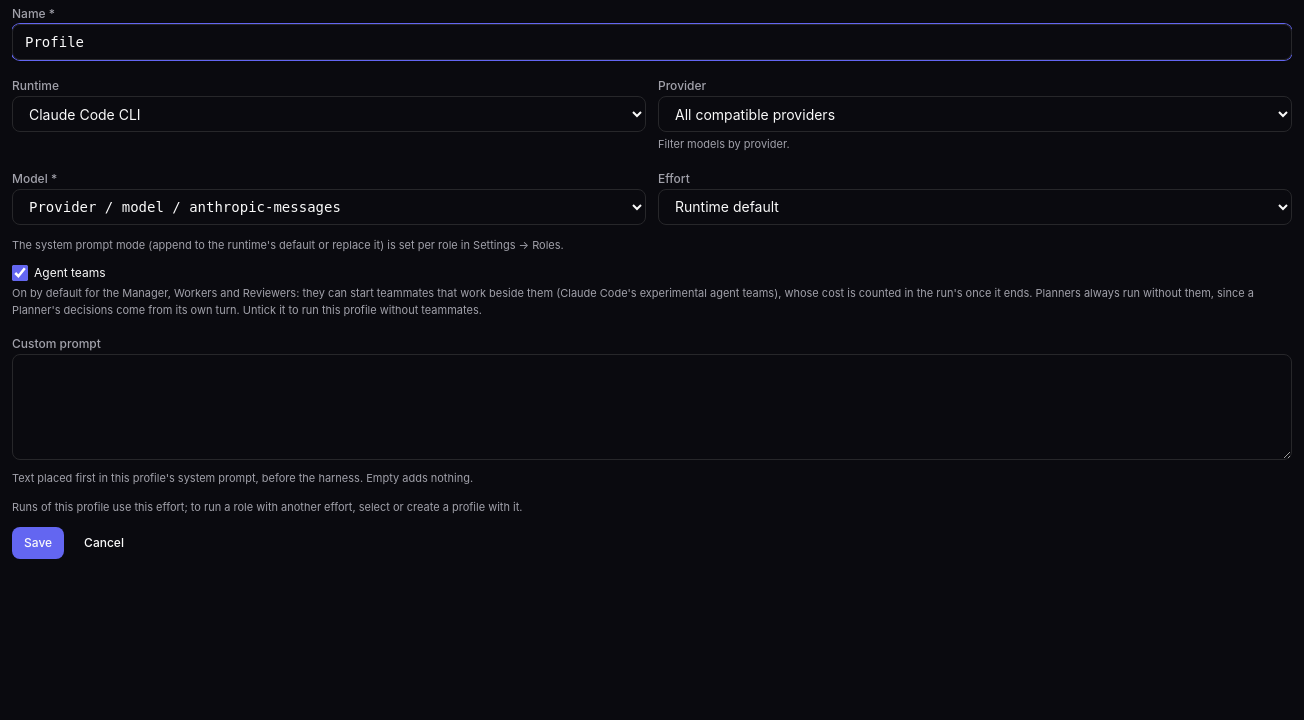
Test: Agent Profiles › hides agent teams for the API runtime
The image size is (1304, 720).
Check: the checkbox labelled "Agent teams" is shown, box 12,265 -> 28,281
Check: the label "Runtime" is shown, box 12,78 -> 59,93
Select "Model API (SDK)" in the dropdown labelled "Runtime": (329, 114) 12,96 -> 646,132
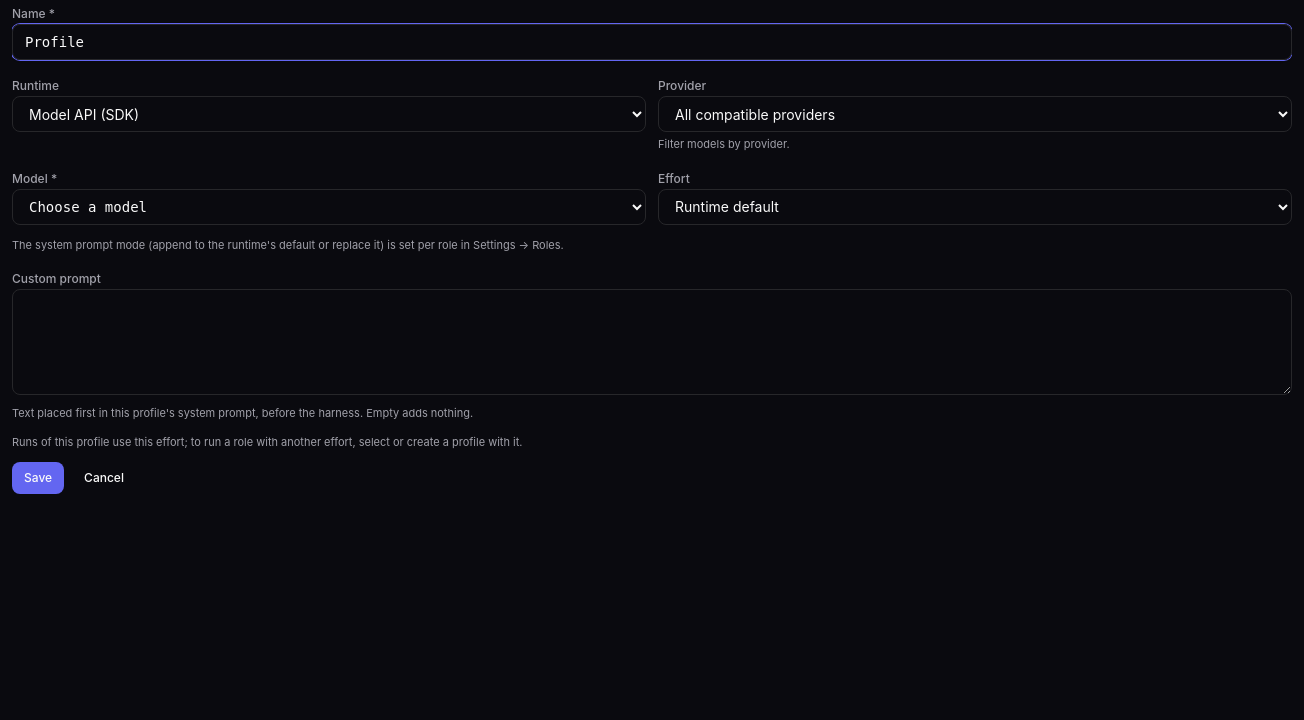
Check: the checkbox is gone
Check: the text "Agent teams" is gone
